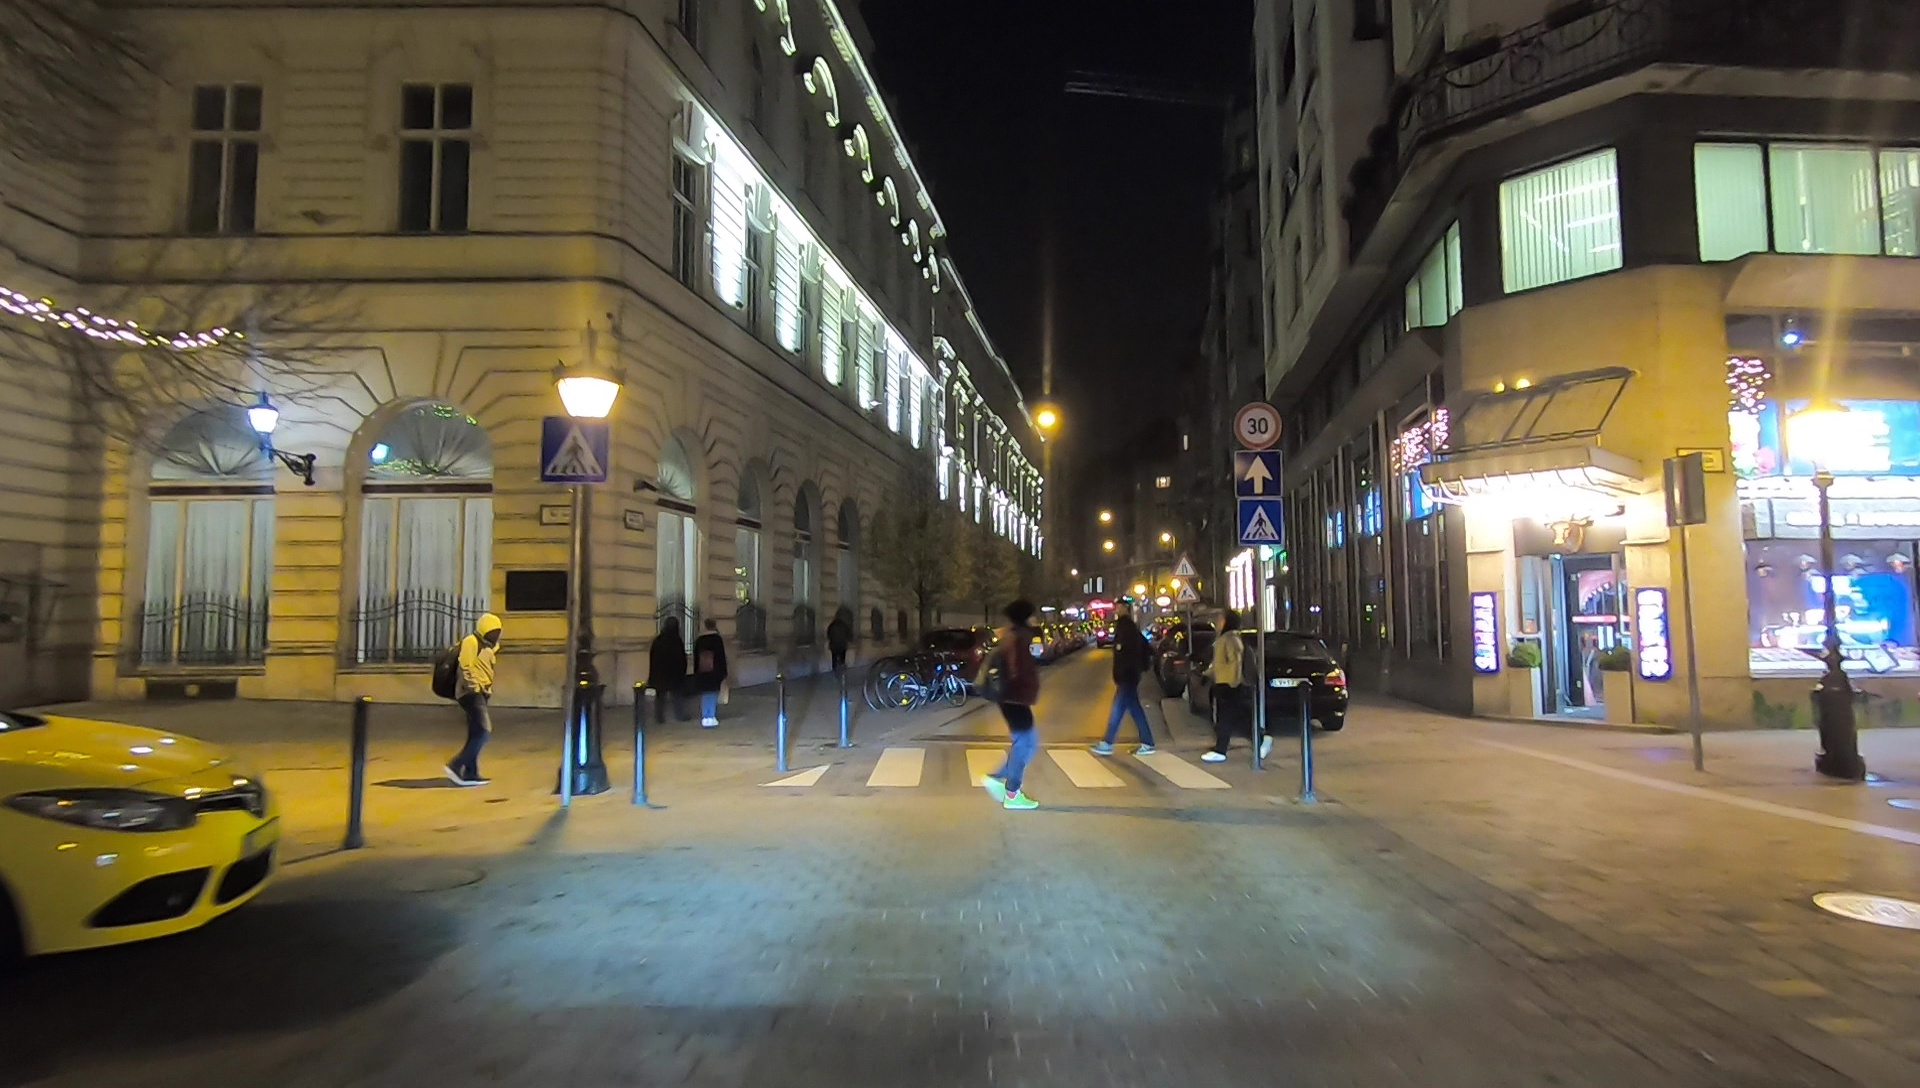person: (978, 597, 1036, 817), (436, 613, 504, 787), (1089, 599, 1160, 761), (1210, 606, 1275, 769), (651, 611, 691, 723), (697, 613, 728, 730), (828, 608, 851, 686)
